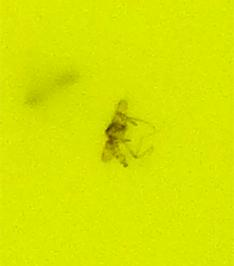Nematocera: (100, 100, 134, 166)
